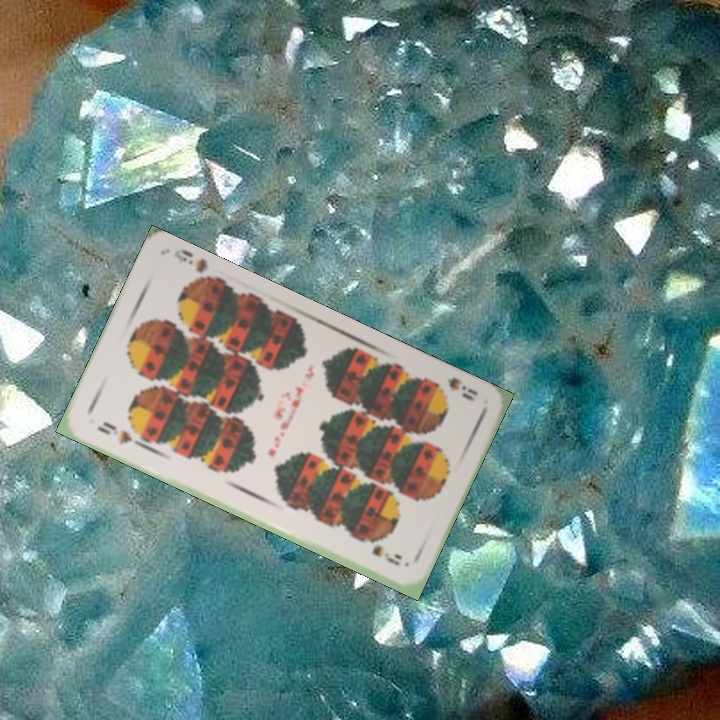S9: (426, 373, 480, 404), (92, 417, 143, 448)
